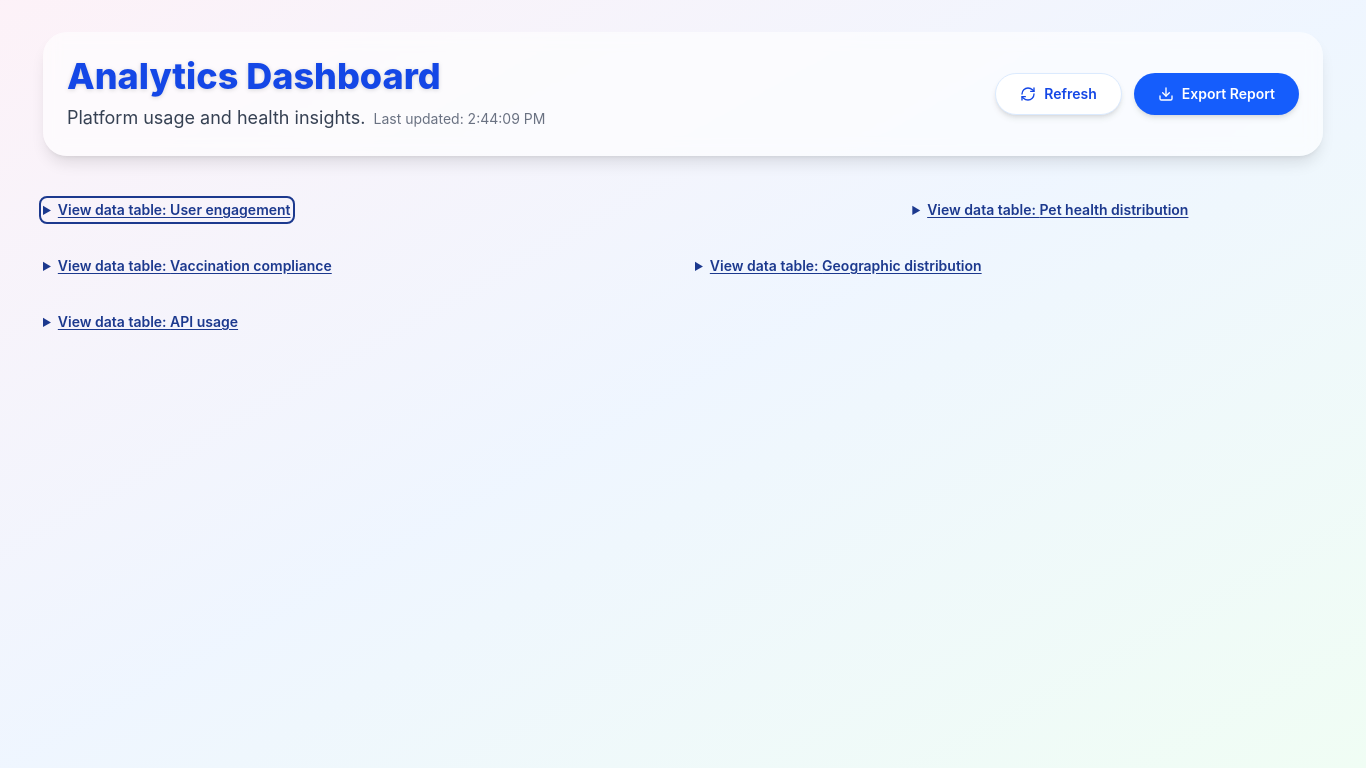
Test: AnalyticsPage accessibility › exposes the chart values and semantic health/vaccination labels in keyboard-accessible tables
Type keys " "
Click the heading "View data table: Pet health distribution". click: (1050,210)
box: top-left (912, 200), bottom-right (1188, 220)
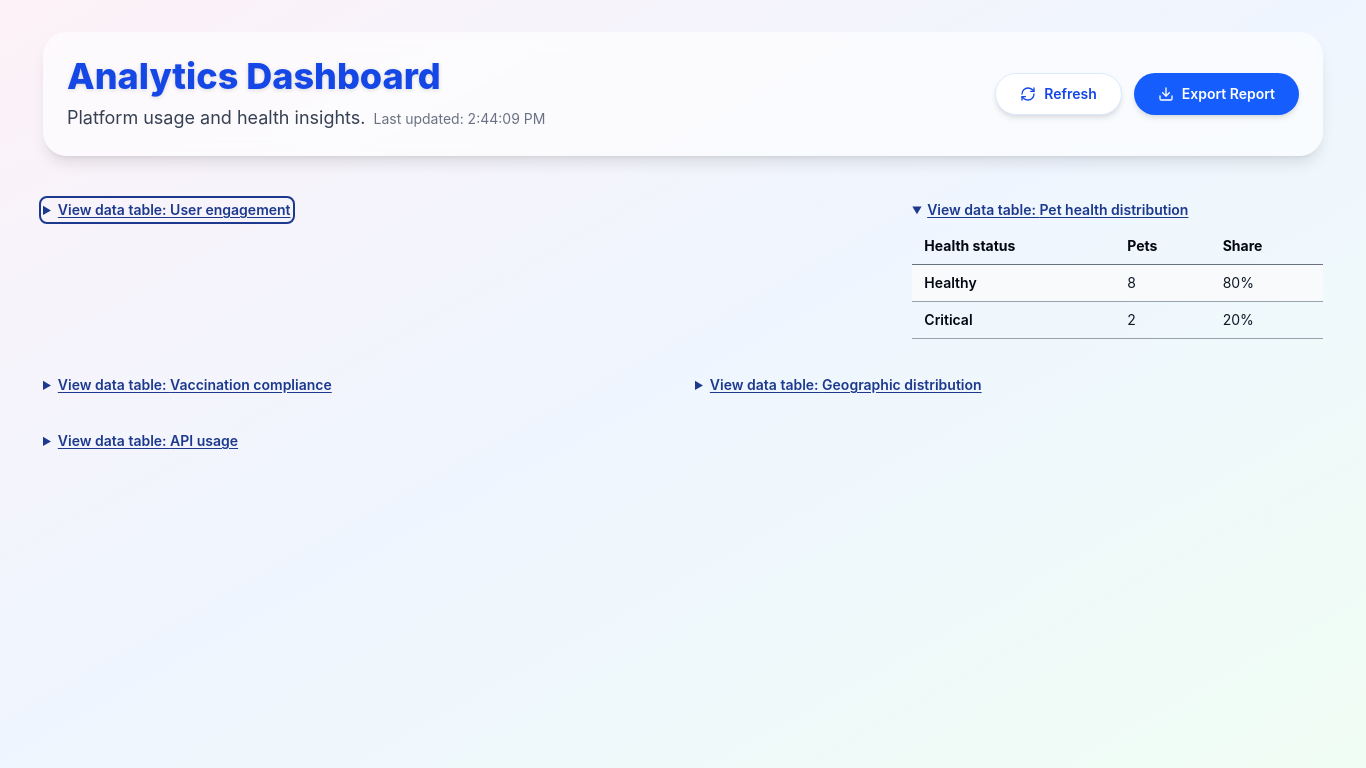
Check: the row "Healthy 8 80%" is shown, box top-left (912, 265), bottom-right (1323, 302)
Check: the row "Critical 2 20%" is shown, box top-left (912, 302), bottom-right (1323, 338)
Click the heading "View data table: Vaccination compliance". click: (187,385)
box: top-left (43, 375), bottom-right (332, 395)
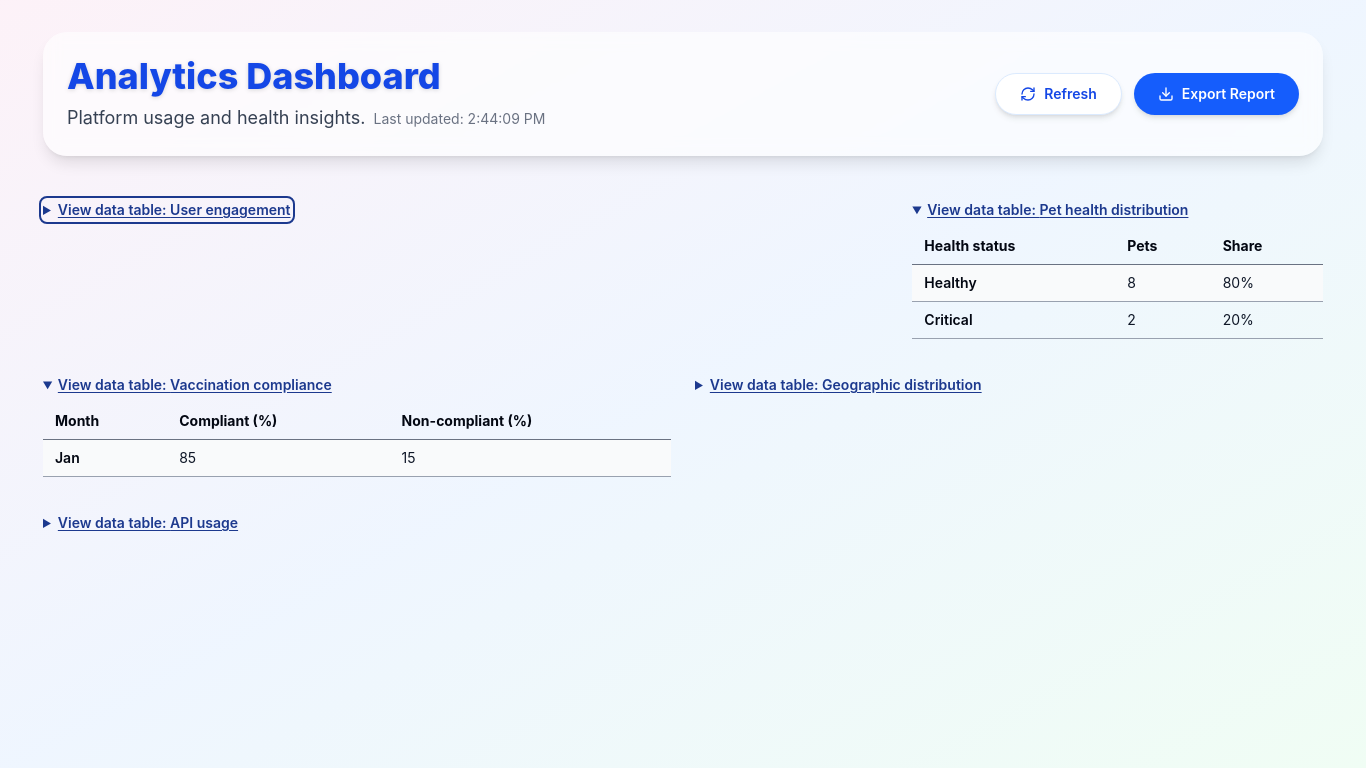
Check: the table named "Vaccination compliance" shows "Non-compliant (%)", box top-left (402, 412), bottom-right (532, 429)
Click the heading "View data table: Geographic distribution". click: (838,385)
box: top-left (695, 375), bottom-right (982, 395)
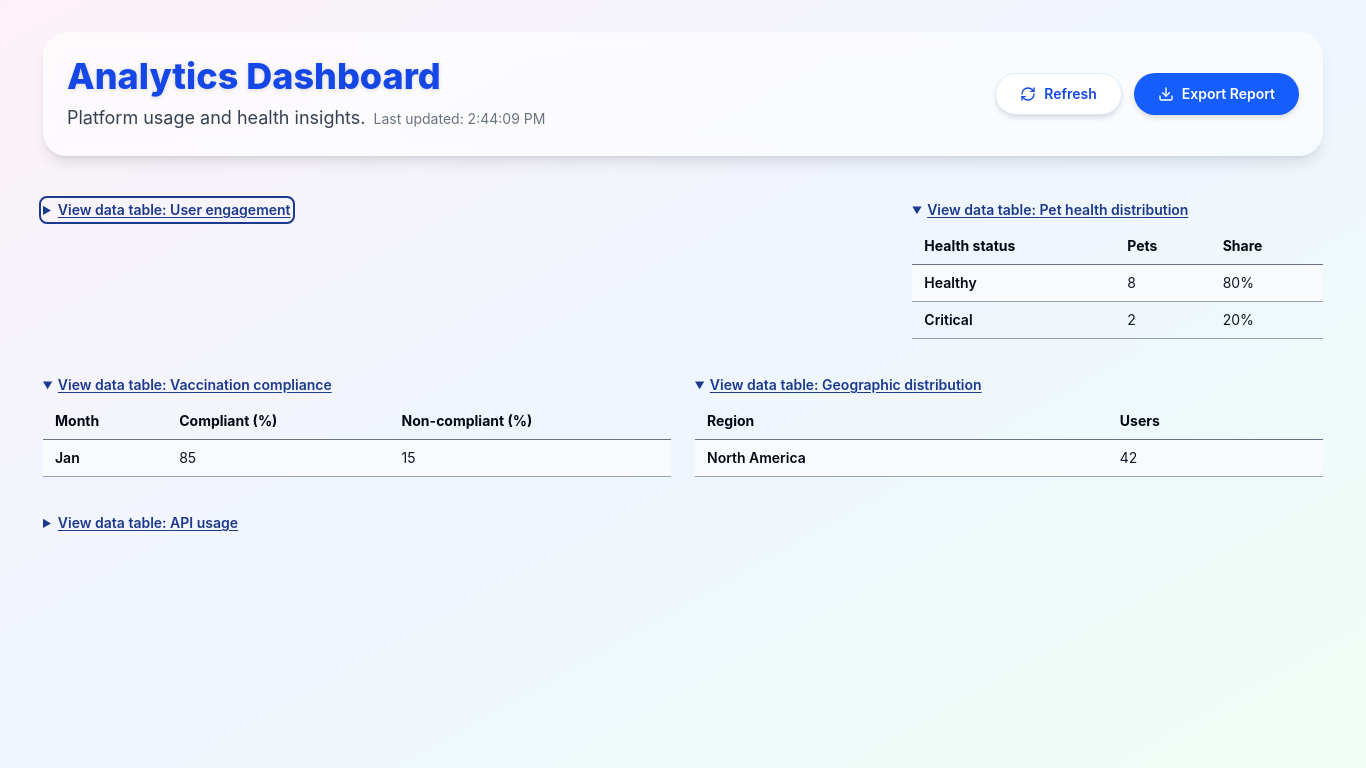
Check: the table named "Geographic distribution" shows "North America", box top-left (707, 449), bottom-right (806, 466)
Click the heading "View data table: API usage". click: (141,523)
box: top-left (43, 513), bottom-right (238, 533)
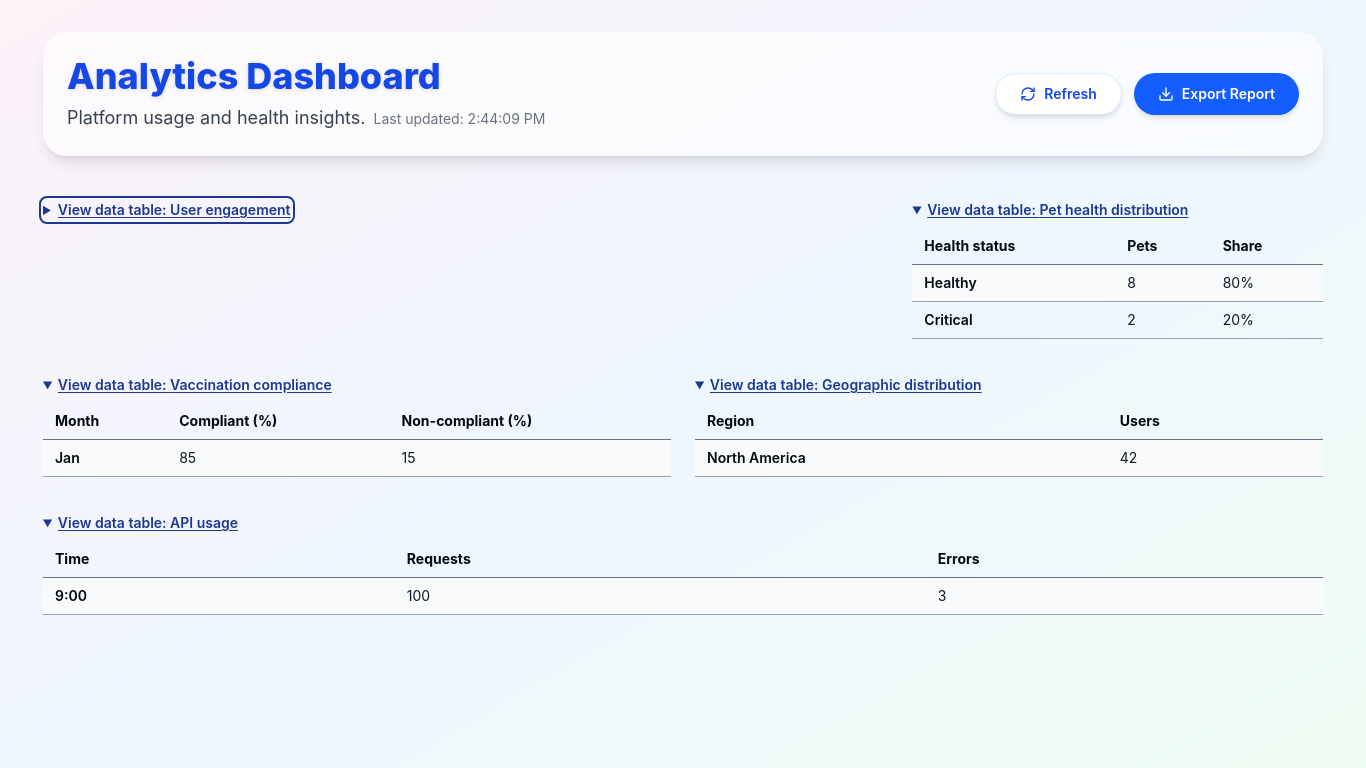
Check: the table named "API usage" shows "100", box top-left (407, 587), bottom-right (430, 604)
